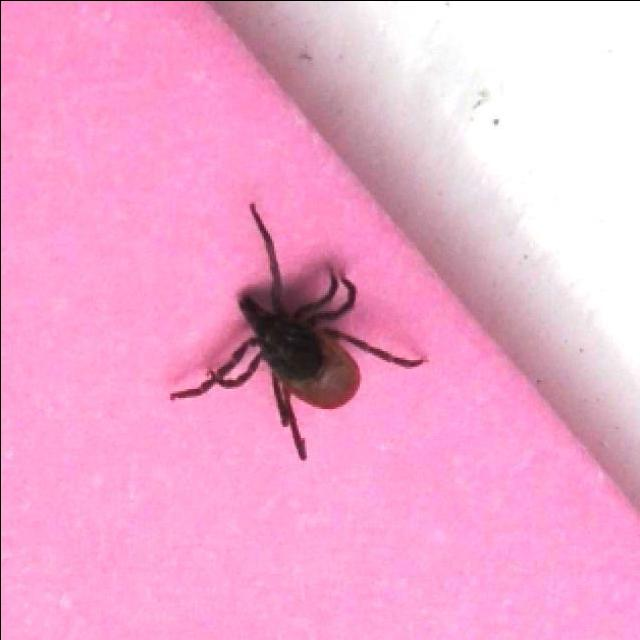Ixodes Ricinus-F: (169, 201, 426, 455)
